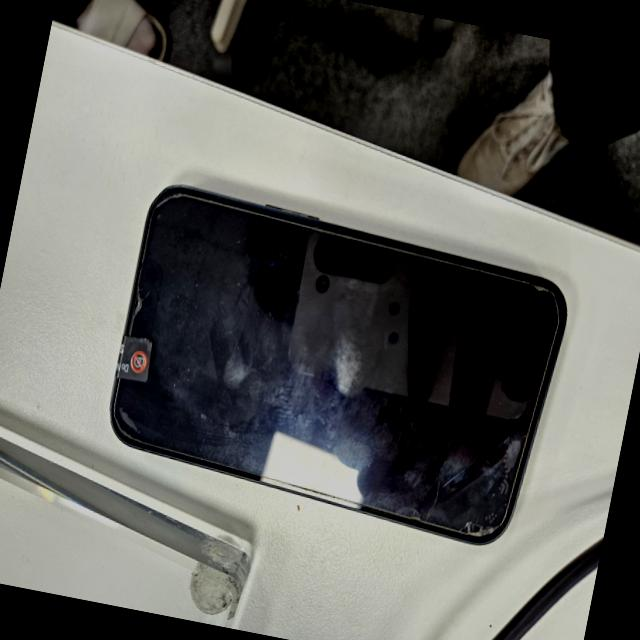phone: (95, 176, 579, 550)
sticker: (116, 332, 154, 382)
